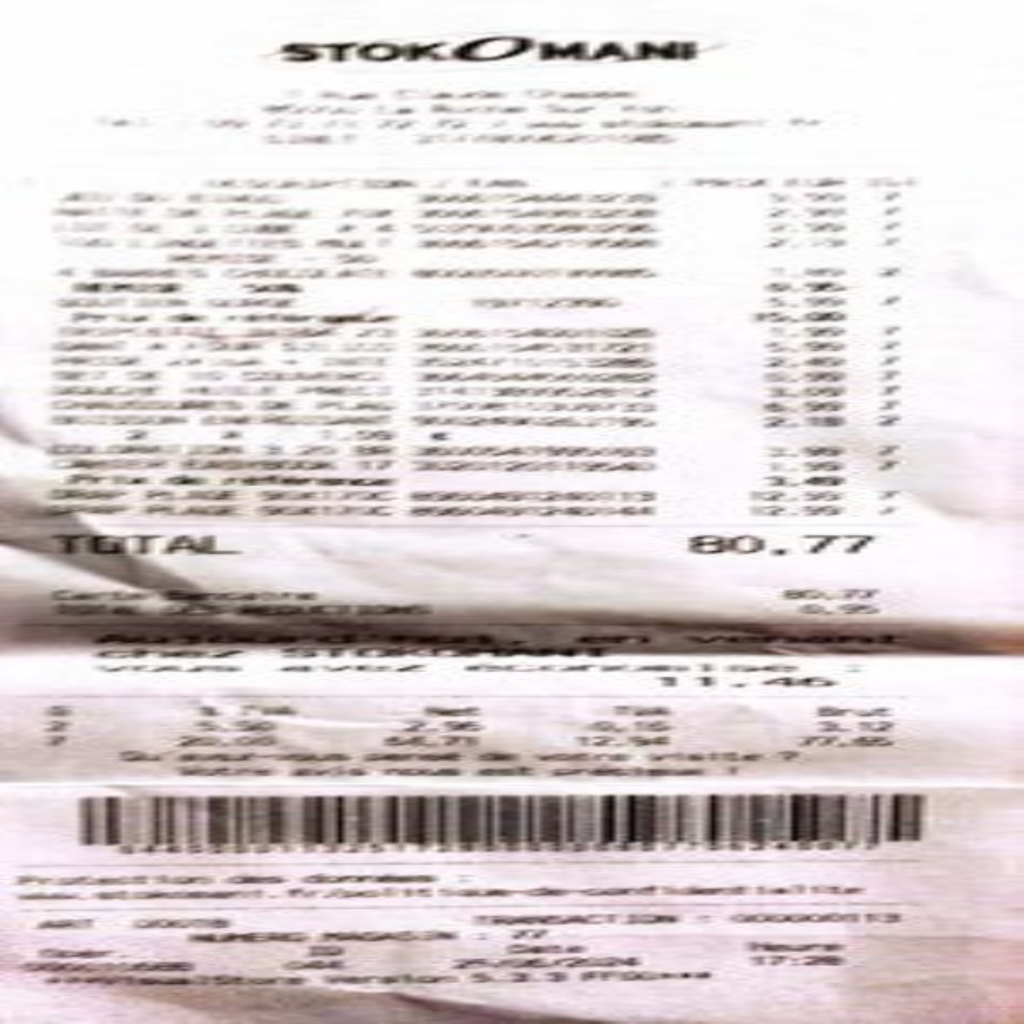recipt: (4, 0, 1016, 1018)
